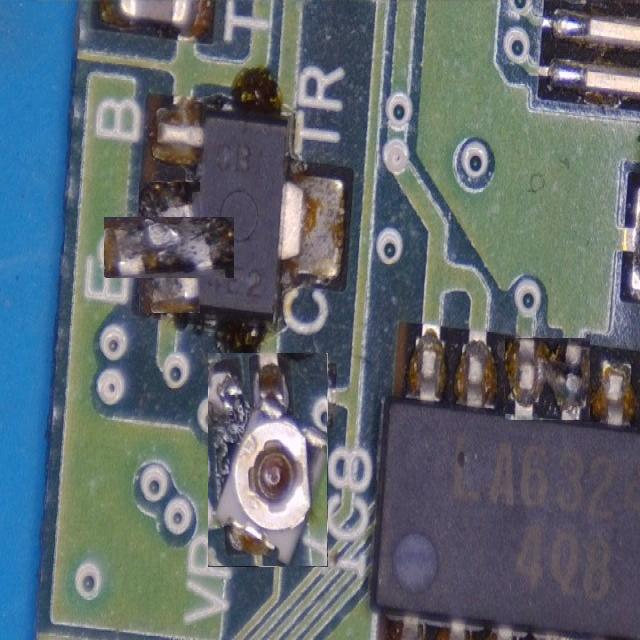Incorrect_installation: (209, 354, 326, 565)
Short_circuit: (104, 218, 233, 277), (505, 338, 590, 420)
